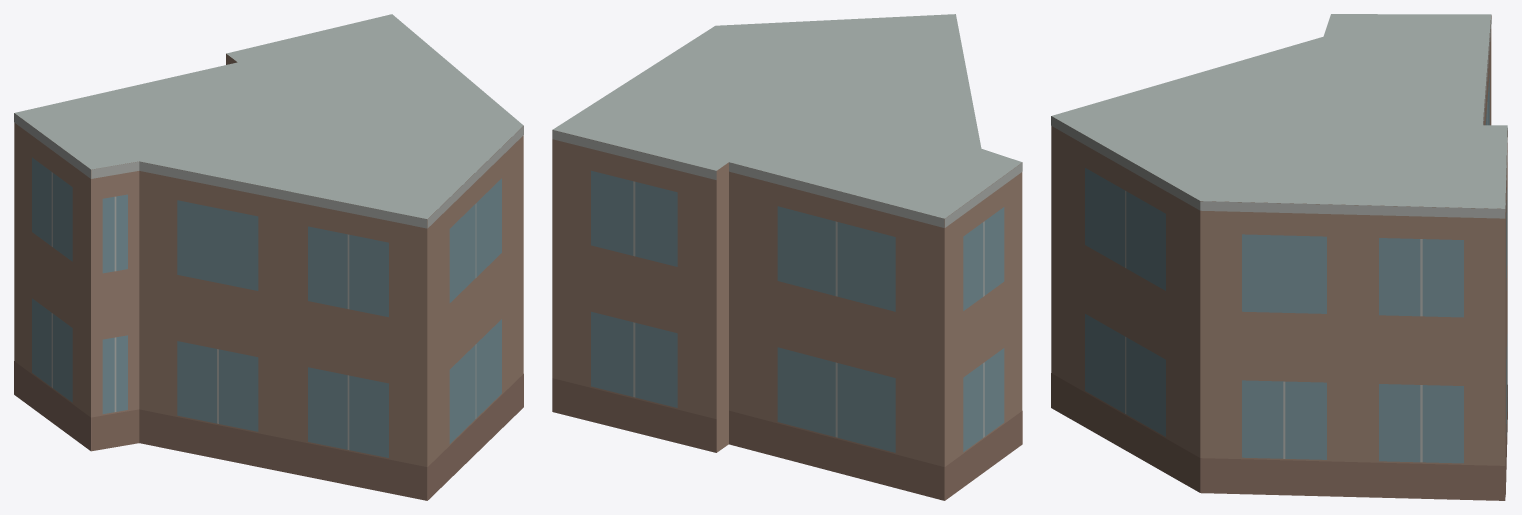
File: survey-upis-32902899.glb
The picture shows the model from 3 angles, left to right: view 1: azimuth 30°, elevation 25°; view 2: azimuth 150°, elevation 25°; view 3: azimuth 270°, elevation 25°; orthographic projection. The views are drawn at different scales.
Parts seen in each view (by area): view 1: survey-upis-32902899.tmp; view 2: survey-upis-32902899.tmp; view 3: survey-upis-32902899.tmp.
Boxes of the visible parts, x1=… form: survey-upis-32902899.tmp: x1=14, y1=14, x2=523, y2=500; survey-upis-32902899.tmp: x1=552, y1=14, x2=1022, y2=500; survey-upis-32902899.tmp: x1=1051, y1=14, x2=1507, y2=500.
Bounding box in the file's own units: 10.46 × 7.3 × 10.35.
